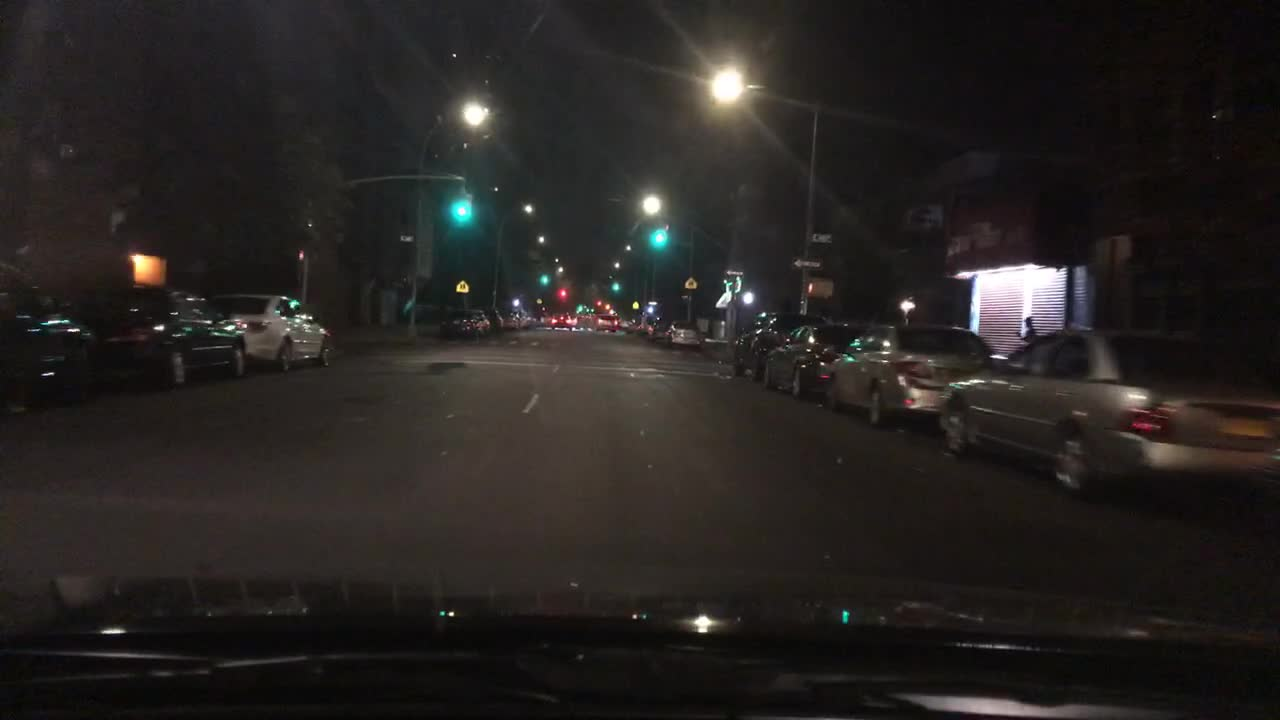car: (938, 326, 1278, 502), (75, 281, 248, 390), (821, 322, 990, 433), (0, 261, 94, 420), (208, 292, 332, 373), (762, 320, 868, 400), (732, 310, 824, 383), (438, 303, 491, 340), (661, 318, 704, 351), (476, 305, 504, 335), (498, 305, 525, 330), (647, 315, 671, 341), (549, 307, 572, 329), (634, 313, 655, 334), (571, 312, 593, 328), (523, 310, 540, 327), (624, 317, 641, 334), (616, 315, 635, 330)
person: (1015, 315, 1035, 342)
traffic light: (448, 198, 469, 224), (648, 225, 667, 247)
traffic sign: (791, 255, 822, 269), (811, 231, 831, 243), (722, 266, 743, 277), (682, 276, 697, 289), (455, 278, 468, 292), (630, 299, 639, 309)
